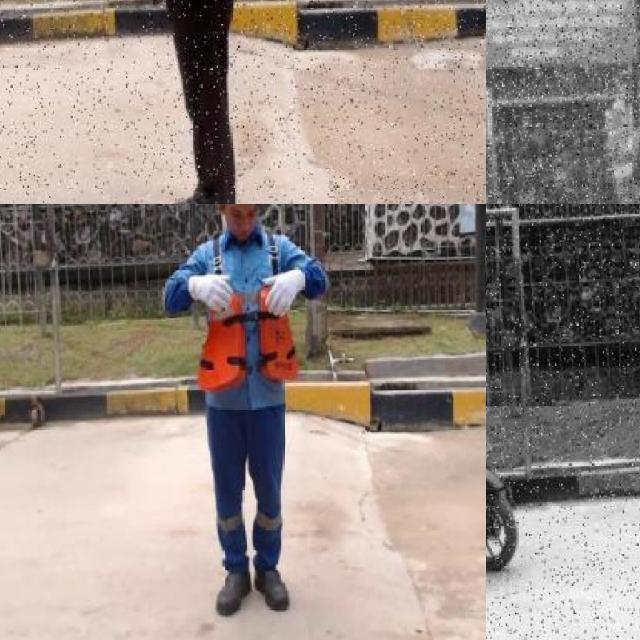apron: (604, 99, 640, 185), (262, 267, 310, 316), (184, 270, 236, 312)
